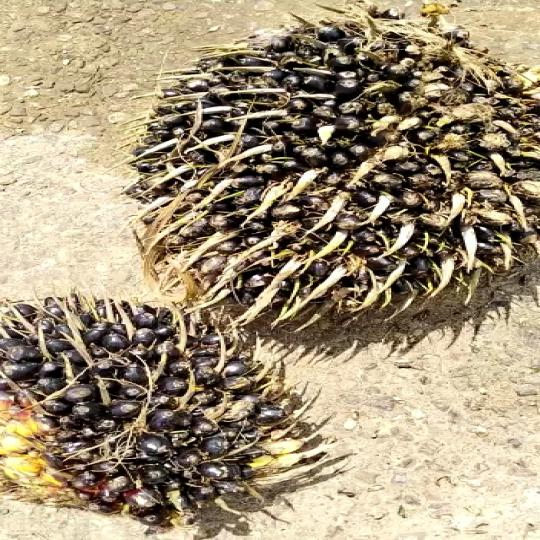mentah: (108, 0, 540, 336), (0, 259, 316, 531)
